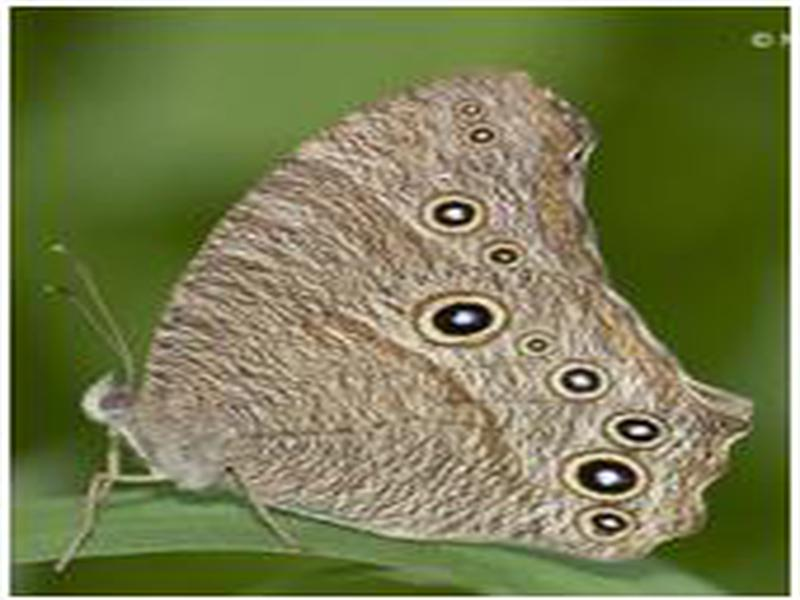Rice_horned_caterpillar: (101, 62, 767, 580)
